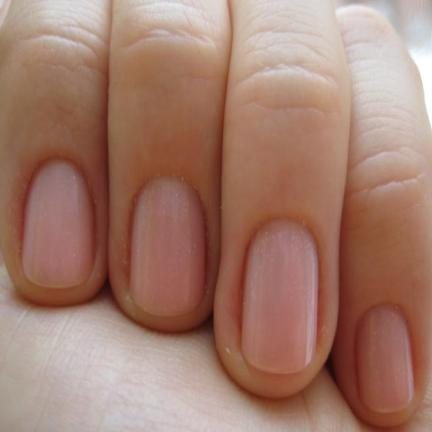Nail: (241, 220, 319, 374), (129, 177, 207, 316), (21, 159, 96, 289), (356, 305, 415, 413)
